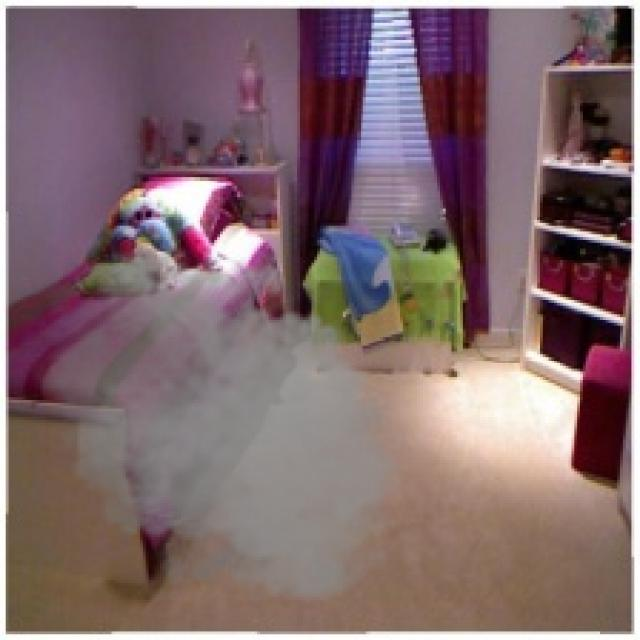smoke: (20, 237, 414, 609)
